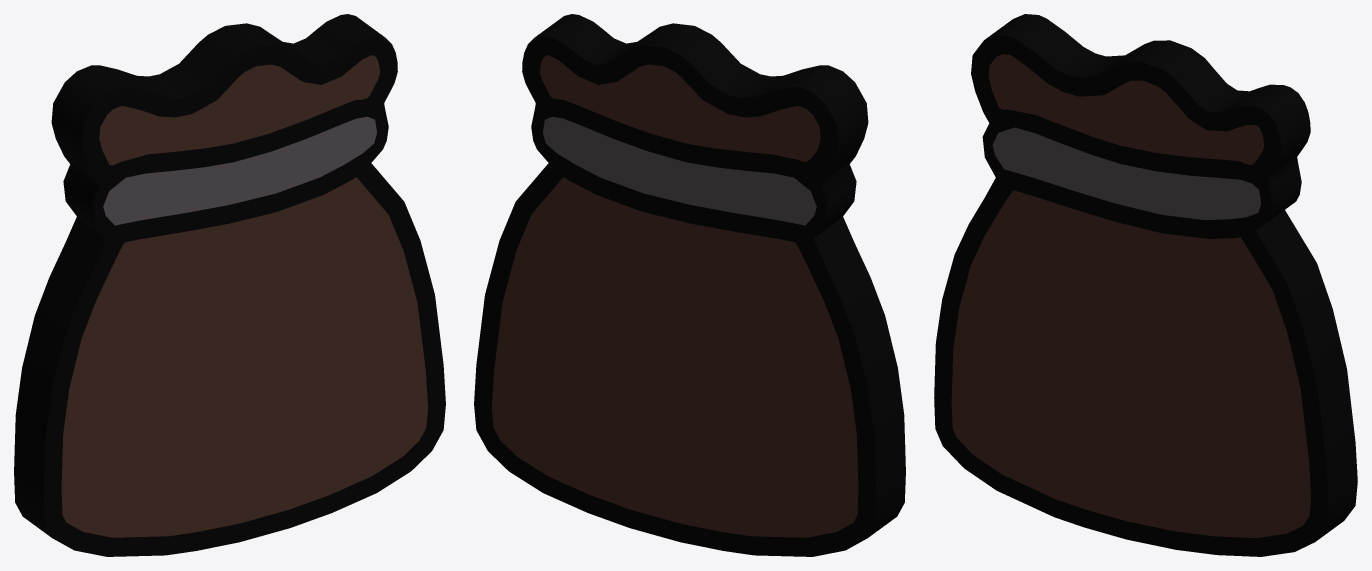
File: treasure_icon.glb
3 views of the same model, side by side, from view 1: azimuth 30°, elevation 25°; view 2: azimuth 150°, elevation 25°; view 3: azimuth 330°, elevation 25° (orthographic).
Visible parts, largest first — view 1: Plane.001; view 2: Plane.001; view 3: Plane.001.
Boxes of the visible parts, box(x1,y1,x2,y2) form: Plane.001: box(14, 14, 445, 556); Plane.001: box(474, 14, 905, 556); Plane.001: box(934, 14, 1357, 556).
Size of the model in its own units: 2.65 by 3.09 by 0.3384.
